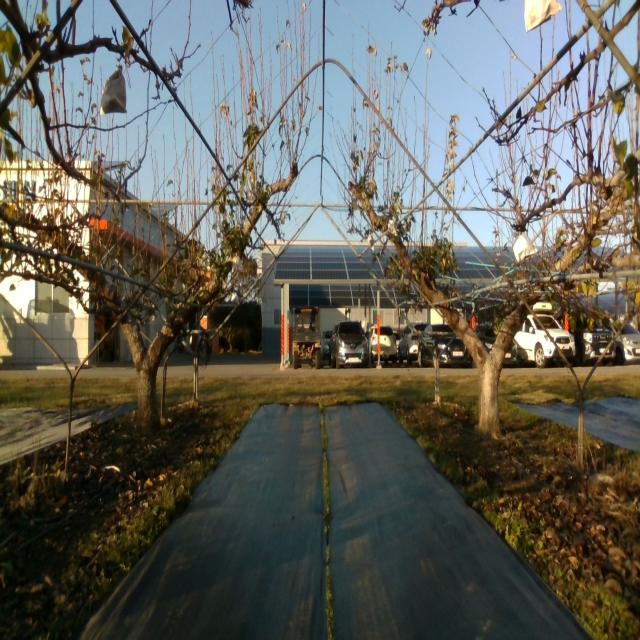pearbags: (99, 64, 127, 114), (524, 0, 562, 33), (513, 230, 538, 263)
